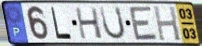6: (26, 5, 50, 42)
E: (128, 5, 160, 42)
H: (152, 5, 183, 42), (74, 6, 104, 41)
L: (50, 6, 74, 41)
U: (99, 6, 127, 42)
